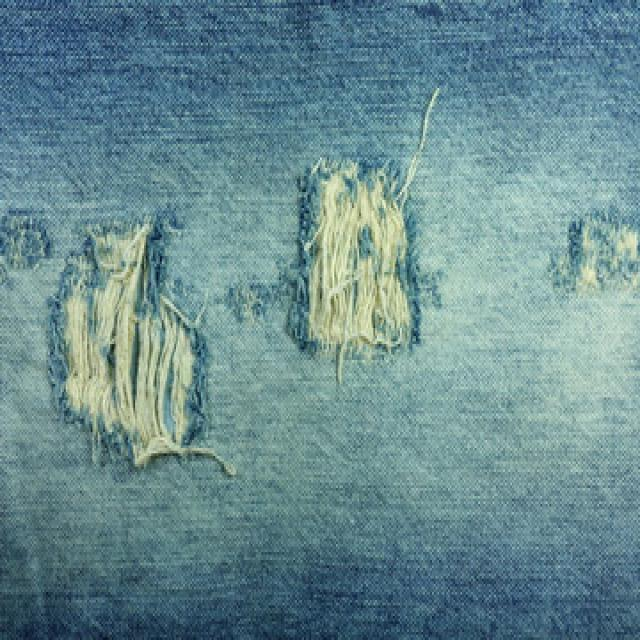Hole: (47, 218, 221, 468), (288, 158, 417, 368), (551, 212, 640, 294), (0, 210, 48, 268)
